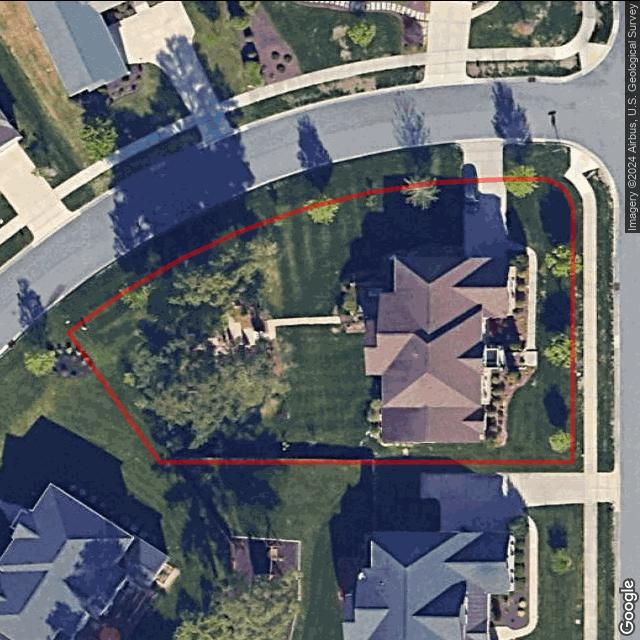Driveway: (464, 178, 507, 255)
Extra-Driveway: (463, 142, 505, 180)
Extra-Lawn: (49, 140, 462, 332), (504, 142, 584, 461), (581, 167, 615, 462)
Extra-Sidewalk: (564, 146, 601, 463)
House: (362, 255, 509, 443)
Lawn: (69, 179, 573, 462)
Other: (133, 236, 341, 434), (485, 250, 529, 351), (484, 367, 538, 449), (332, 271, 370, 334), (368, 398, 384, 445)
Sidewalk: (496, 234, 537, 367)
